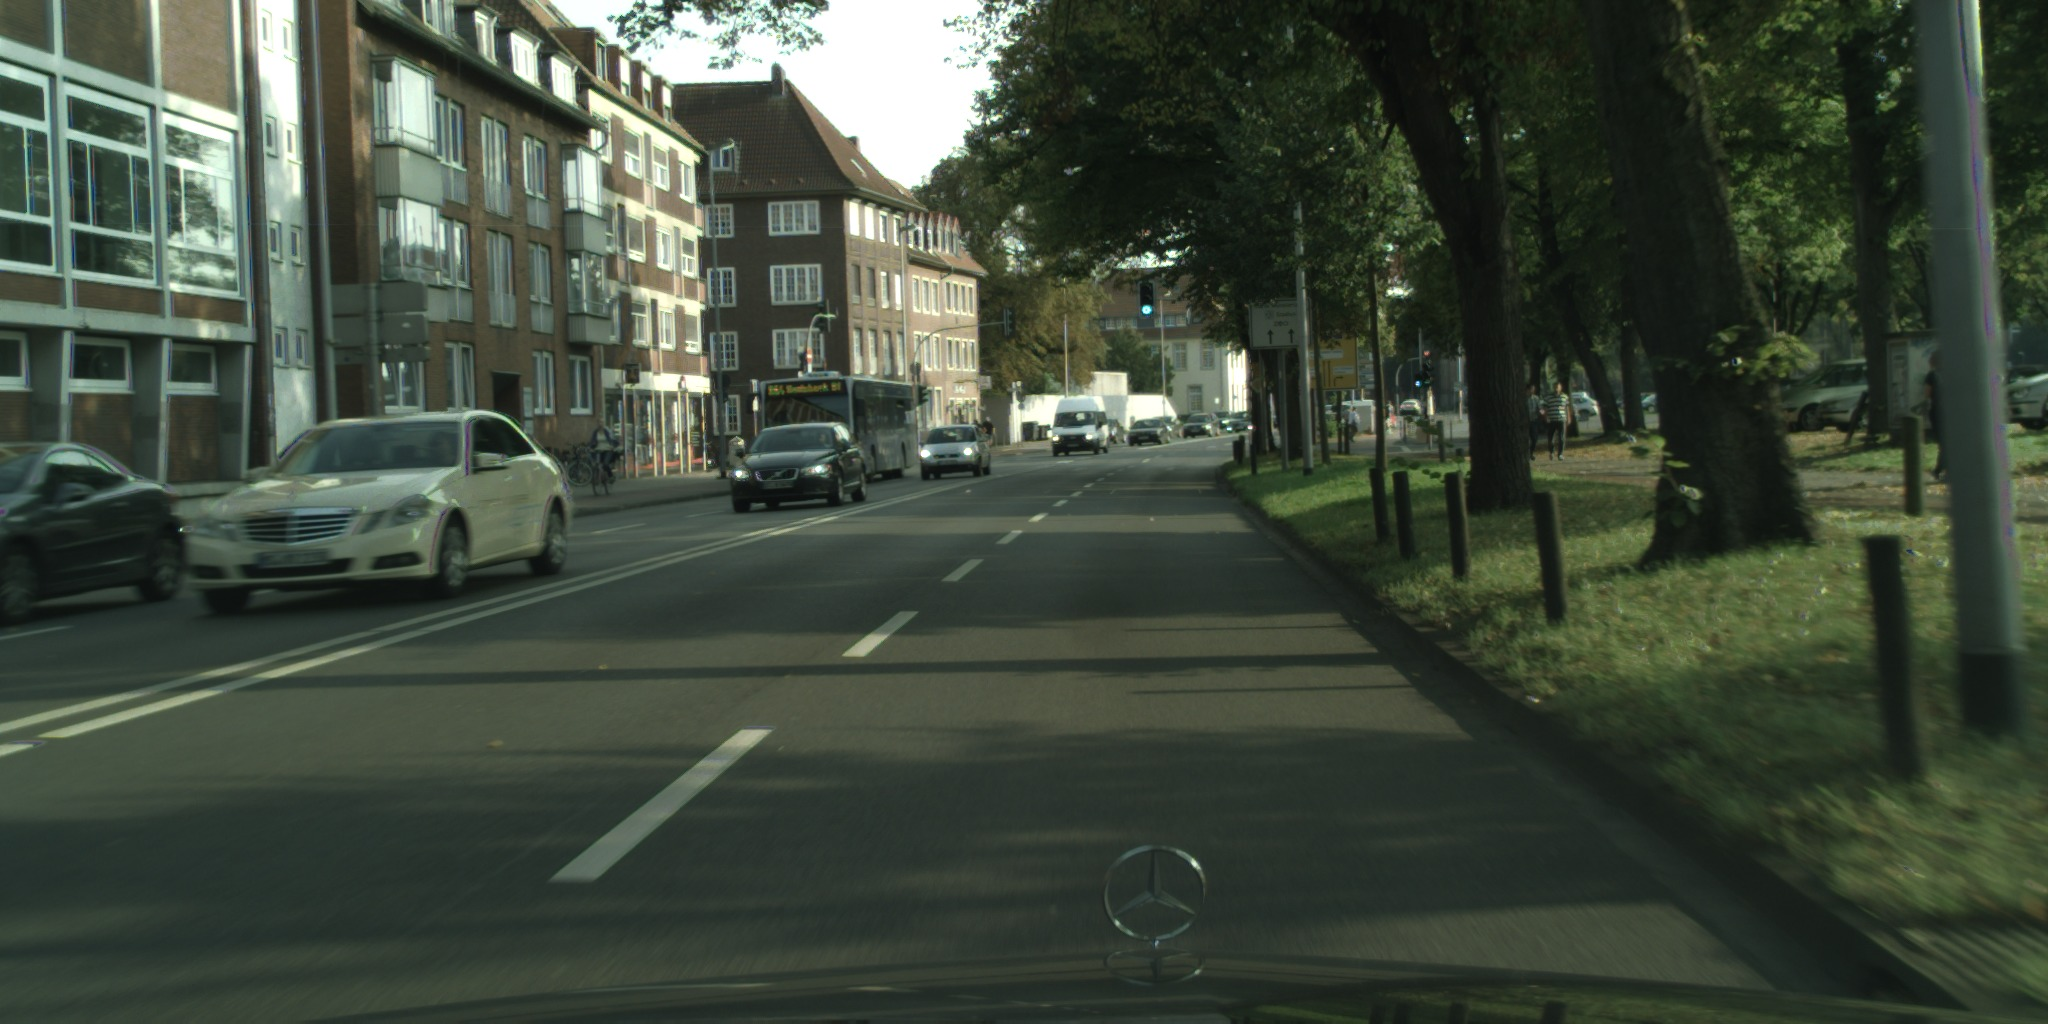bicycle: (560, 440, 613, 487), (585, 447, 612, 493), (603, 444, 624, 493)
bus: (747, 370, 916, 487)
car: (183, 407, 572, 616), (1, 439, 188, 630), (729, 421, 869, 513), (1771, 357, 1873, 434), (918, 424, 991, 481), (1051, 396, 1110, 459), (1999, 371, 2048, 432), (1126, 418, 1172, 448), (1181, 411, 1221, 439), (1564, 393, 1600, 422), (1145, 415, 1183, 439), (1637, 392, 1664, 415), (1209, 408, 1234, 432), (1225, 410, 1252, 432), (1105, 419, 1127, 443), (1399, 399, 1420, 416), (1321, 403, 1339, 420)
person: (1912, 343, 1950, 481), (1538, 380, 1572, 463), (1523, 382, 1545, 463), (1342, 403, 1360, 446), (1383, 395, 1395, 436), (981, 417, 995, 446), (968, 419, 984, 442)
rider: (590, 415, 619, 483)
